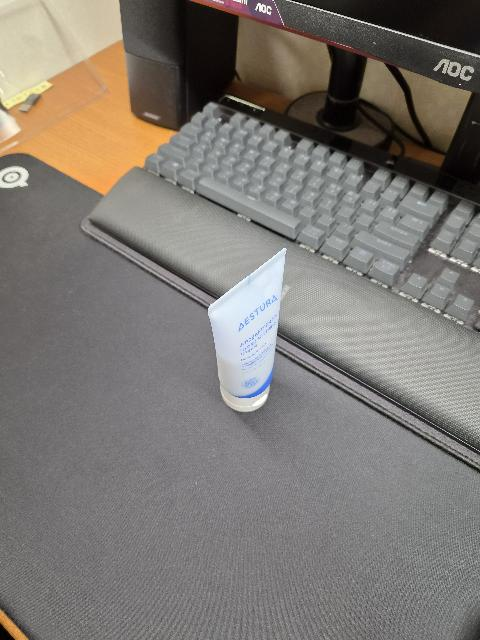handcream: (208, 248, 287, 412)
